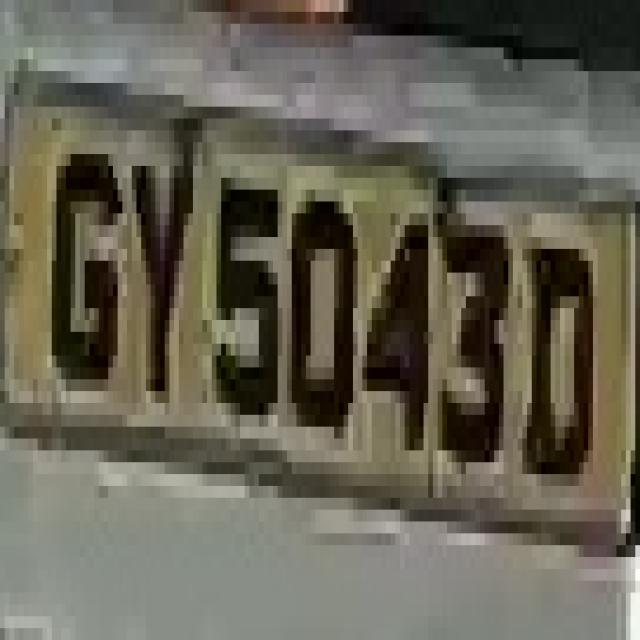0: (268, 154, 358, 462)
3: (423, 142, 513, 510)
4: (343, 178, 438, 510)
5: (207, 119, 287, 474)
D: (513, 178, 598, 557)
G: (52, 130, 127, 438)
Y: (108, 83, 193, 415)
